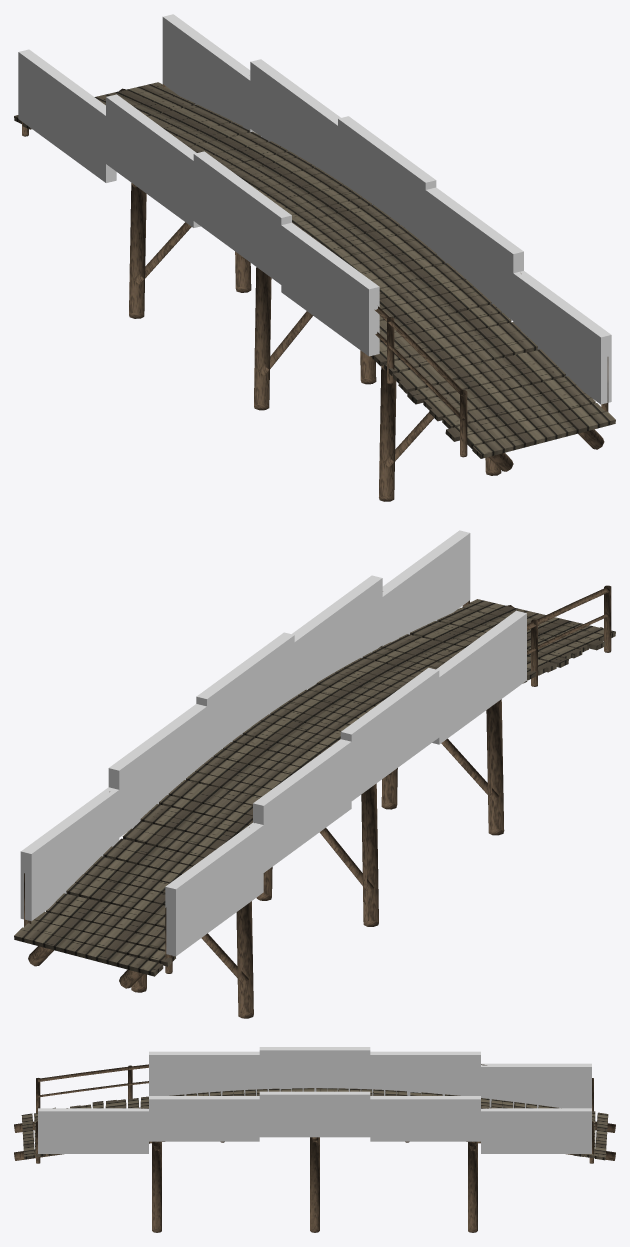
The model's file is wooden_bridge.glb.
The picture shows the model from 3 angles, top to bottom: view 1: azimuth 30°, elevation 25°; view 2: azimuth 150°, elevation 25°; view 3: azimuth 270°, elevation 25°; orthographic projection. The views are drawn at different scales.
Visible parts, largest first — view 1: BridgeDeck, BridgeFrame, BridgeRail-convcolonly.001, BridgeRail-convcolonly.002, BridgeRail-convcolonly.004, BridgeRail-convcolonly.005, BridgeRail-convcolonly.003, BridgeRail-convcolonly.006, BridgeRail-convcolonly.007, BridgeRail-convcolonly.008, BridgeRail-convcolonly.009; view 2: BridgeDeck, BridgeFrame, BridgeRail-convcolonly.004, BridgeRail-convcolonly.003, BridgeRail-convcolonly.002, BridgeRail-convcolonly.009, BridgeRail-convcolonly.001, BridgeRail-convcolonly.008, BridgeRail-convcolonly.007, BridgeRail-convcolonly.006, BridgeRail-convcolonly.005; view 3: BridgeRail-convcolonly.007, BridgeRail-convcolonly.005, BridgeRail-convcolonly.006, BridgeRail-convcolonly.008, BridgeRail-convcolonly.009, BridgeRail-convcolonly.002, BridgeRail-convcolonly.003, BridgeRail-convcolonly.001, BridgeRail-convcolonly.004, BridgeFrame, BridgeDeck.
Part boxes in pixels (x1=…): BridgeDeck: x1=14, y1=82, x2=615, y2=458; BridgeFrame: x1=22, y1=84, x2=608, y2=501; BridgeRail-convcolonly.001: x1=281, y1=222, x2=379, y2=356; BridgeRail-convcolonly.002: x1=193, y1=151, x2=291, y2=284; BridgeRail-convcolonly.004: x1=18, y1=49, x2=116, y2=182; BridgeRail-convcolonly.005: x1=513, y1=271, x2=611, y2=404; BridgeRail-convcolonly.003: x1=106, y1=94, x2=200, y2=227; BridgeRail-convcolonly.006: x1=425, y1=187, x2=523, y2=320; BridgeRail-convcolonly.007: x1=338, y1=116, x2=436, y2=243; BridgeRail-convcolonly.008: x1=250, y1=59, x2=340, y2=179; BridgeRail-convcolonly.009: x1=162, y1=14, x2=256, y2=133; BridgeDeck: x1=14, y1=599, x2=615, y2=976; BridgeFrame: x1=24, y1=585, x2=611, y2=1018; BridgeRail-convcolonly.004: x1=165, y1=822, x2=263, y2=956; BridgeRail-convcolonly.003: x1=253, y1=739, x2=351, y2=872; BridgeRail-convcolonly.002: x1=340, y1=667, x2=439, y2=800; BridgeRail-convcolonly.009: x1=20, y1=787, x2=119, y2=921; BridgeRail-convcolonly.001: x1=432, y1=610, x2=526, y2=744; BridgeRail-convcolonly.008: x1=108, y1=704, x2=206, y2=837; BridgeRail-convcolonly.007: x1=196, y1=632, x2=294, y2=760; BridgeRail-convcolonly.006: x1=292, y1=575, x2=382, y2=696; BridgeRail-convcolonly.005: x1=382, y1=530, x2=470, y2=646; BridgeRail-convcolonly.007: x1=259, y1=1091, x2=370, y2=1137; BridgeRail-convcolonly.005: x1=38, y1=1108, x2=148, y2=1153; BridgeRail-convcolonly.006: x1=149, y1=1096, x2=259, y2=1141; BridgeRail-convcolonly.008: x1=370, y1=1096, x2=480, y2=1141; BridgeRail-convcolonly.009: x1=481, y1=1108, x2=591, y2=1153; BridgeRail-convcolonly.002: x1=259, y1=1047, x2=370, y2=1091; BridgeRail-convcolonly.003: x1=370, y1=1051, x2=480, y2=1095; BridgeRail-convcolonly.001: x1=149, y1=1051, x2=259, y2=1095; BridgeRail-convcolonly.004: x1=481, y1=1063, x2=591, y2=1108; BridgeFrame: x1=14, y1=1064, x2=615, y2=1232; BridgeDeck: x1=21, y1=1088, x2=608, y2=1160.
Size of what is drawn, in the model's own units: 2.9 by 4.06 by 15.44.
Materials: 2 (2 with a texture image).
